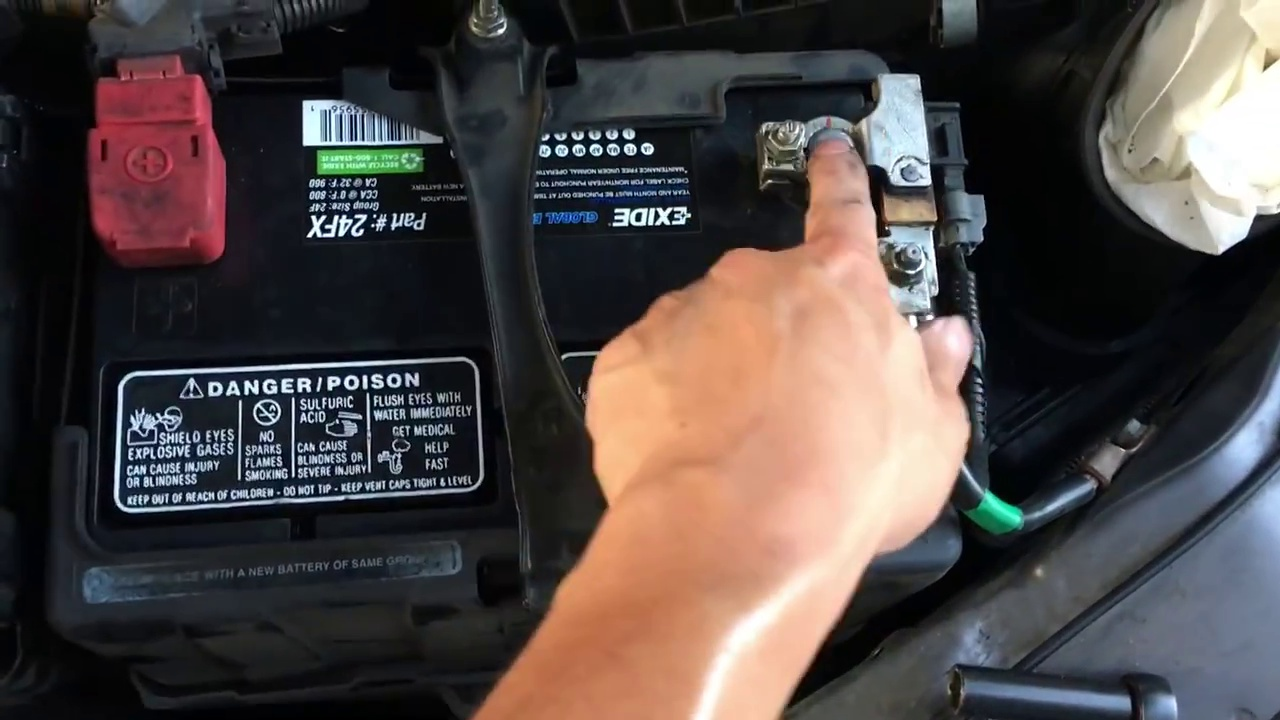battery: (63, 47, 965, 571)
neg_connected: (740, 88, 942, 214)
neg_touched: (754, 115, 984, 392)
pos_connected: (68, 59, 253, 278)
